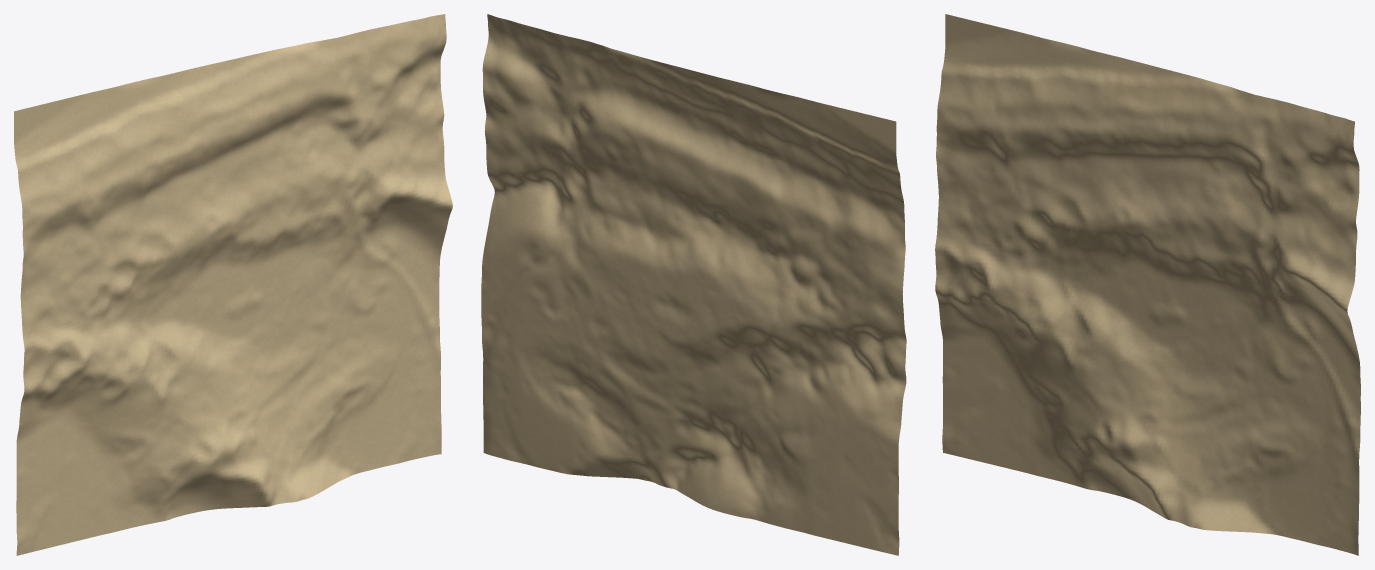
Rendered from terrain.obj.
3 views of the same model, side by side, from view 1: azimuth 30°, elevation 25°; view 2: azimuth 150°, elevation 25°; view 3: azimuth 330°, elevation 25° (orthographic).
Parts seen in each view (by area): view 1: terrain; view 2: terrain; view 3: terrain.
Boxes of the visible parts, x1,y1,x2,y2 form: terrain: (14, 14, 452, 555); terrain: (481, 14, 906, 555); terrain: (935, 14, 1360, 555).
Bounding box in the file's own units: 200 × 200 × 14.4.
1 material, 1 textured.
